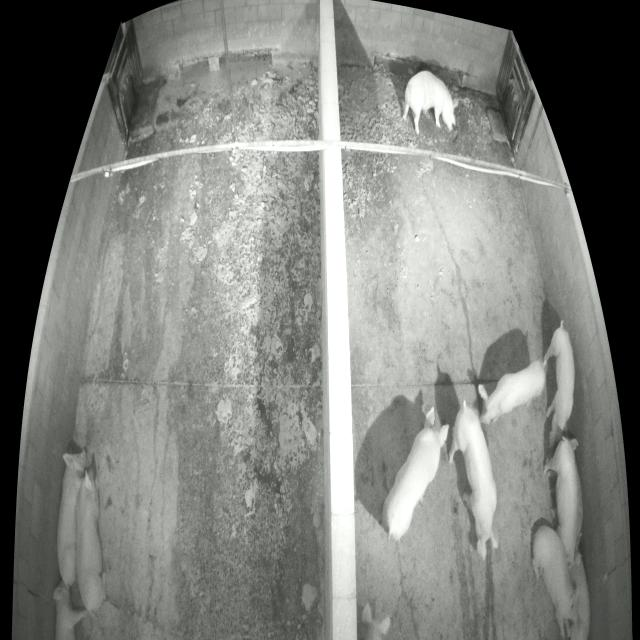pig: (382, 407, 449, 540), (448, 407, 499, 561), (532, 525, 580, 637), (543, 440, 583, 572), (75, 466, 107, 614), (56, 449, 88, 588), (478, 360, 545, 426), (403, 71, 459, 136), (544, 327, 574, 442), (568, 553, 591, 639), (54, 580, 87, 638), (360, 599, 391, 638)
